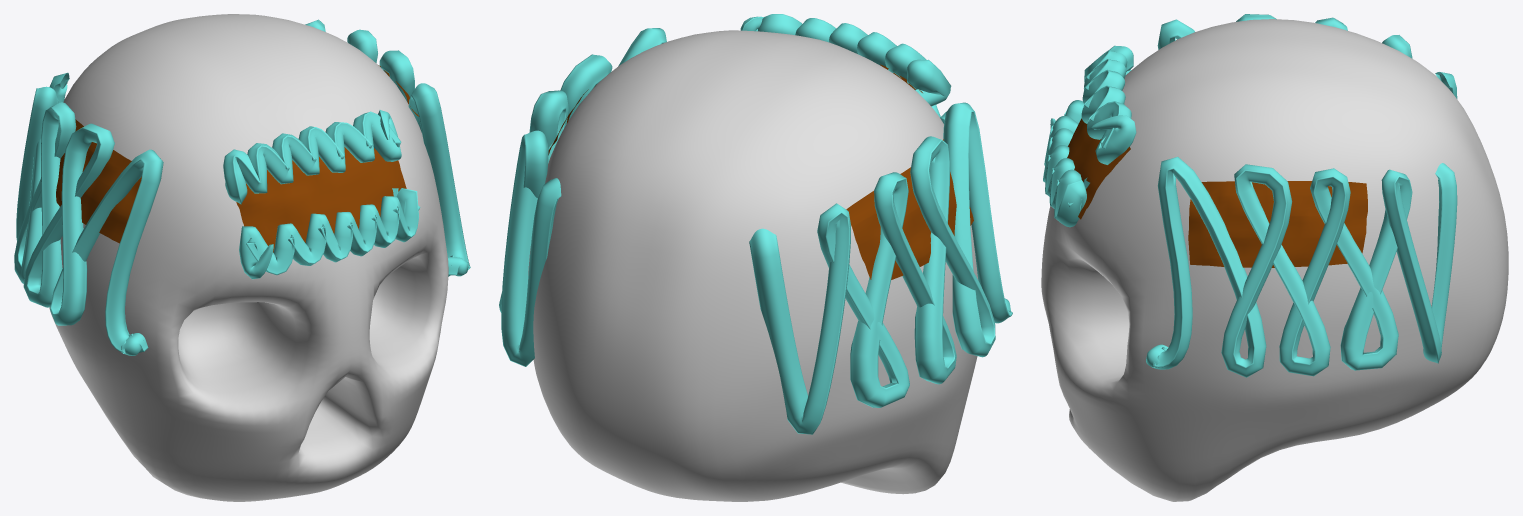
The model's file is CAlaberA.fbx.
3 renders of one model, left to right at view 1: azimuth 30°, elevation 25°; view 2: azimuth 150°, elevation 25°; view 3: azimuth 270°, elevation 25°, orthographic. The views are drawn at different scales.
Parts seen in each view (by area): view 1: Cube, BezierCurve.002, Plane, BezierCurve, BezierCurve.001; view 2: Cube, BezierCurve.002, BezierCurve.001, Plane; view 3: Cube, BezierCurve.002, Plane, BezierCurve.001, BezierCurve.
Boxes of the visible parts, left/top/right/bottom form: Cube: left=49, top=14, right=448, bottom=501; BezierCurve.002: left=14, top=19, right=470, bottom=355; Plane: left=56, top=65, right=418, bottom=252; BezierCurve: left=239, top=188, right=420, bottom=279; BezierCurve.001: left=223, top=110, right=401, bottom=204; Cube: left=528, top=30, right=978, bottom=501; BezierCurve.002: left=499, top=28, right=1012, bottom=434; BezierCurve.001: left=740, top=14, right=951, bottom=106; Plane: left=548, top=64, right=973, bottom=279; Cube: left=1041, top=19, right=1508, bottom=501; BezierCurve.002: left=1146, top=14, right=1457, bottom=377; Plane: left=1067, top=118, right=1367, bottom=267; BezierCurve.001: left=1081, top=45, right=1136, bottom=164; BezierCurve: left=1043, top=100, right=1089, bottom=227.
Bounding box in the file's own units: 194 × 189 × 192.
